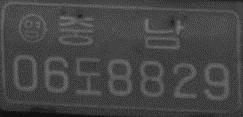0: (12, 54, 37, 92)
2: (171, 62, 198, 100)
6: (43, 55, 69, 94)
8: (106, 59, 133, 97), (138, 60, 165, 98)
9: (203, 62, 231, 102)
도: (74, 56, 103, 96)
영: (17, 13, 48, 44)
충남_D: (57, 14, 184, 50)
